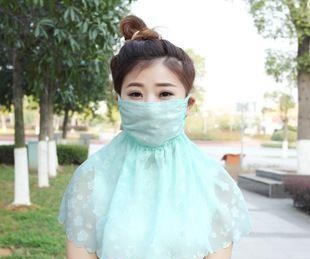face_mask: (120, 61, 186, 142)
